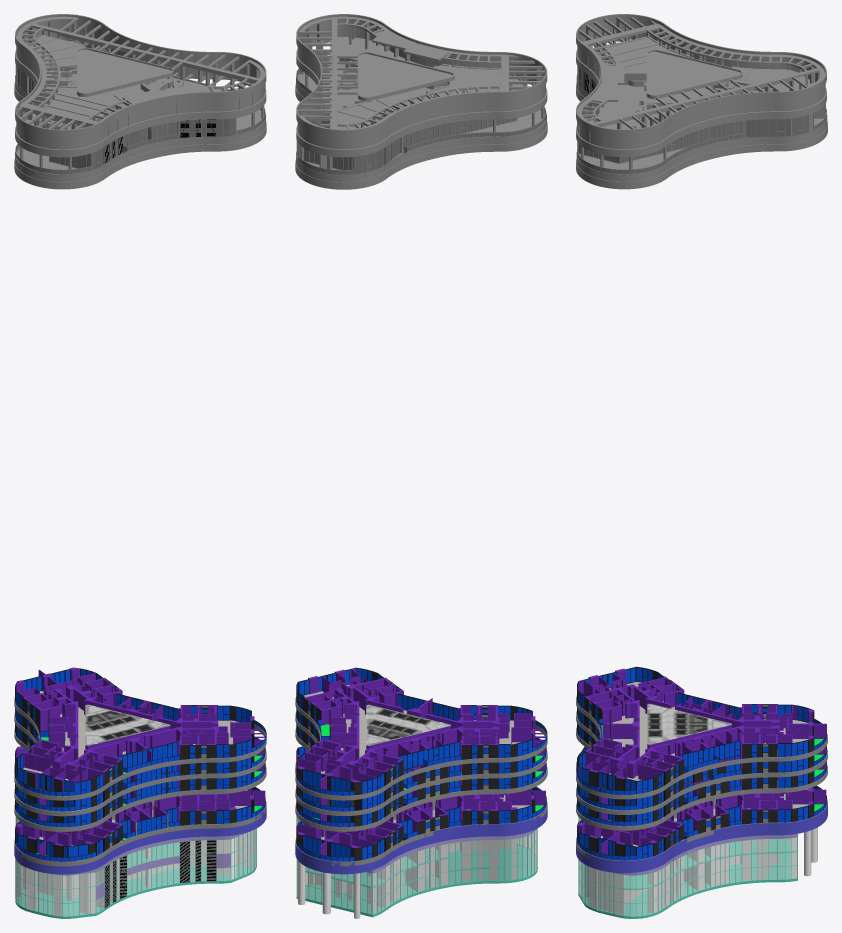
The model's file is Gindi_MainBuilding_js_6.fbx.
The picture shows the model from 3 angles, left to right: view 1: azimuth 30°, elevation 25°; view 2: azimuth 150°, elevation 25°; view 3: azimuth 270°, elevation 25°; orthographic projection.
Parts seen in each view (by area): view 1: wall_roof, Glass, panel_roof, Wall, APT_21-43_Int_5P_001, Windows, Floor, glass_roof, APT_21-43_Int_5P, hall_21-43, APT_21-43_Int_3M_001, APT_5-7_Int_3Rs (+25 smaller); view 2: wall_roof, Glass, panel_roof, Wall, Floor, APT_21-43_Int_5R_001, glass_roof, APT_21-43_Int_5P_001, Windows, floor_roof, Decoration, APT_5-7_Int_4Rw (+21 smaller); view 3: wall_roof, Glass, panel_roof, Wall, APT_21-43_Int_5P, APT_21-43_Int_5R, Floor, glass_roof, Windows, Decoration, floor_roof, hall_21-43 (+21 smaller).
Part boxes in pixels (x1,y1,x2,y2): wall_roof: (14, 14, 266, 189); Glass: (15, 817, 256, 916); panel_roof: (15, 21, 265, 181); Wall: (16, 818, 255, 915); APT_21-43_Int_5P_001: (14, 746, 107, 800); Windows: (15, 817, 256, 916); Floor: (15, 842, 256, 918); glass_roof: (15, 43, 265, 174); APT_21-43_Int_5P: (198, 705, 266, 762); hall_21-43: (78, 704, 170, 757); APT_21-43_Int_3M_001: (133, 726, 215, 769); APT_5-7_Int_3Rs: (38, 827, 115, 866); wall_roof: (295, 14, 547, 189); Glass: (296, 816, 537, 914); panel_roof: (296, 21, 546, 182); Wall: (297, 818, 533, 918); Floor: (296, 822, 537, 917); APT_21-43_Int_5R_001: (319, 742, 418, 800); glass_roof: (296, 68, 546, 174); APT_21-43_Int_5P_001: (478, 705, 547, 762); Windows: (296, 816, 537, 914); floor_roof: (296, 36, 545, 177); Decoration: (295, 767, 547, 874); APT_5-7_Int_4Rw: (319, 821, 406, 866); wall_roof: (576, 14, 827, 189); Glass: (578, 817, 797, 916); panel_roof: (576, 21, 827, 181); Wall: (579, 818, 817, 914); APT_21-43_Int_5P: (576, 751, 677, 799); APT_21-43_Int_5R: (711, 724, 827, 765); Floor: (578, 838, 797, 918); glass_roof: (577, 67, 826, 174); Windows: (578, 817, 797, 916); Decoration: (576, 763, 827, 872); floor_roof: (577, 41, 827, 174); hall_21-43: (639, 703, 731, 756).
Bounding box in the file's own units: 5193 × 16410 × 4741.
